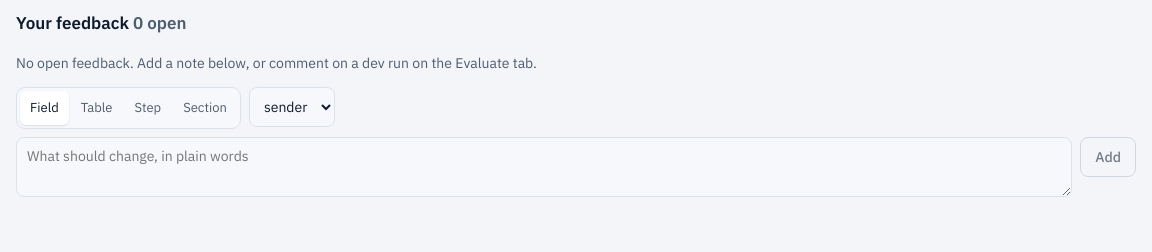
Scenario: ReviseFeedback › caps the text at what the API accepts and shows a refusal
Type "x" into the text box named "Feedback" at (544, 167), box [16,137,1072,197]
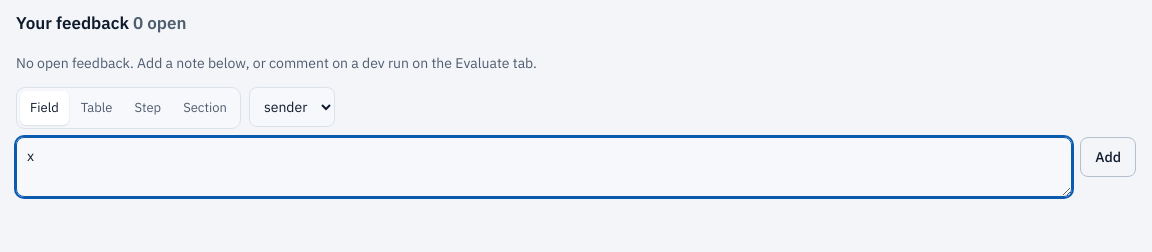
Click the button "Add" at (1108, 157), box [1080,137,1136,177]
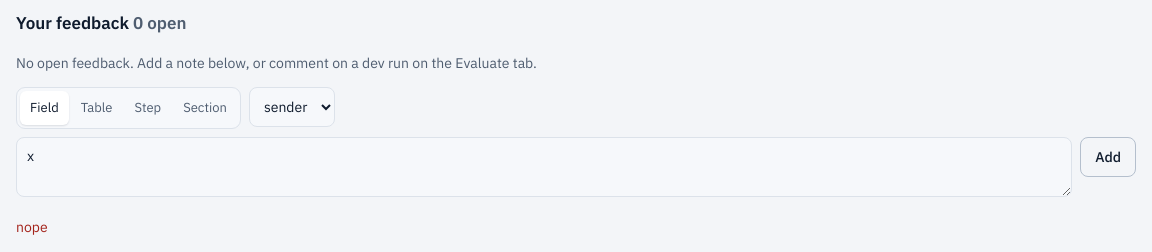
Expected: the message reads "nope", [16,218,48,236]
